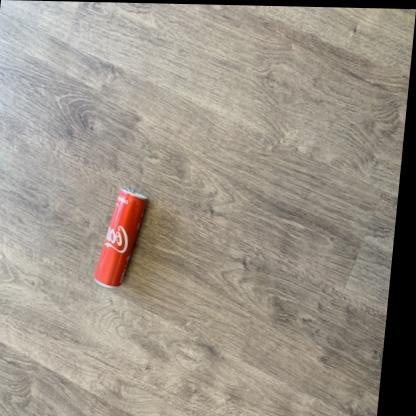trash: (95, 189, 145, 286)
